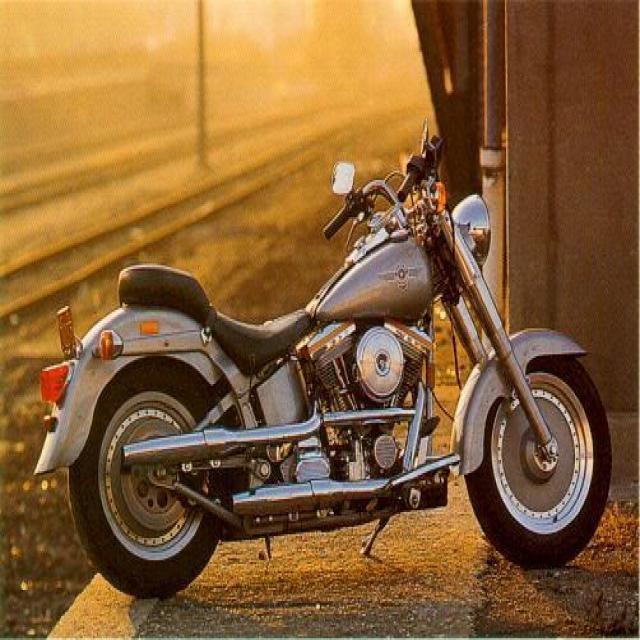Motorcycle: (52, 156, 612, 594)
